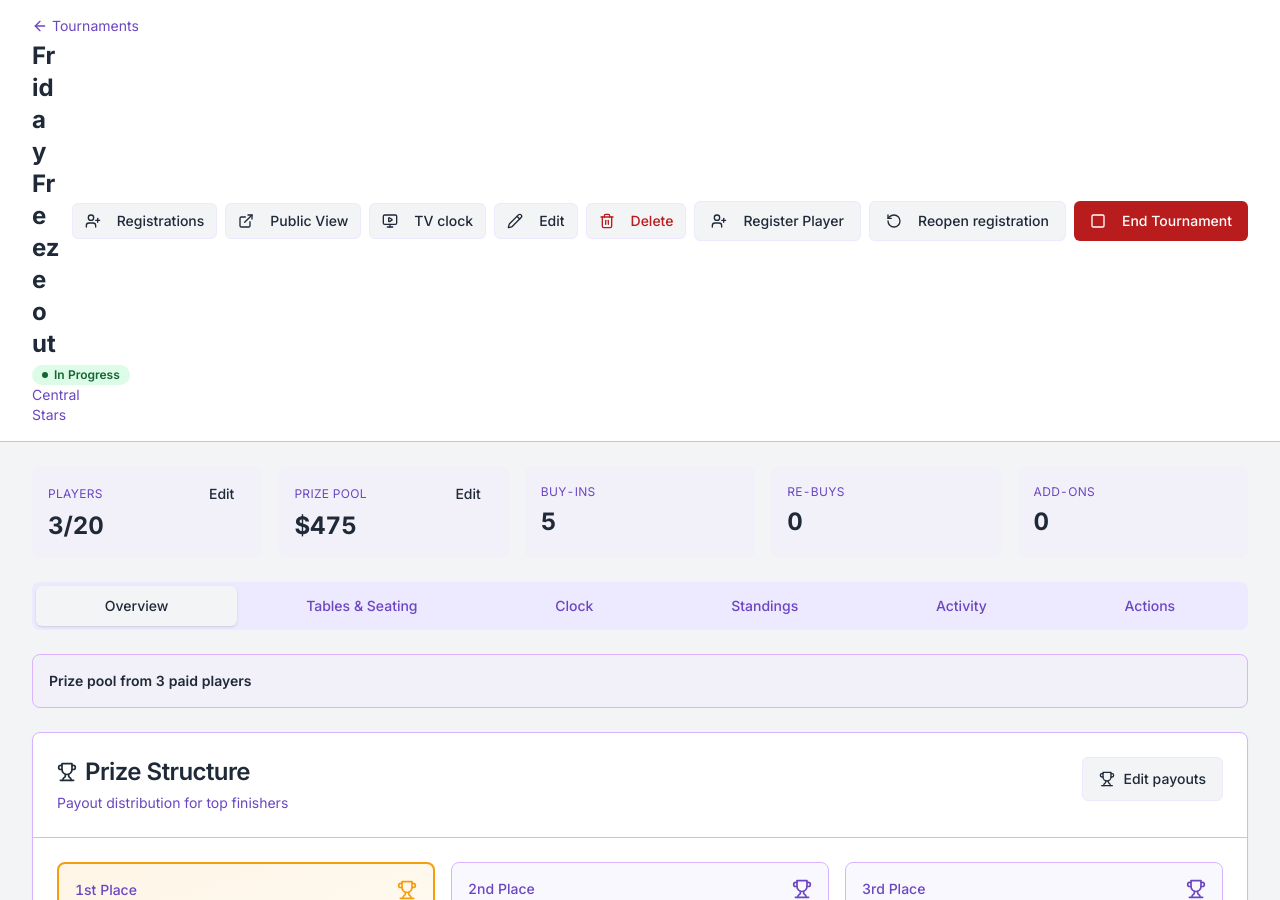
Test case: TournamentDetails › says the waiting requests could not be checked, not that none wait, when their count failed (P3REV3-CQ-05)
This screenshot has width=1280, height=900.
Click the tab "Actions" at point(1150, 606), box [1056,586,1244,626]
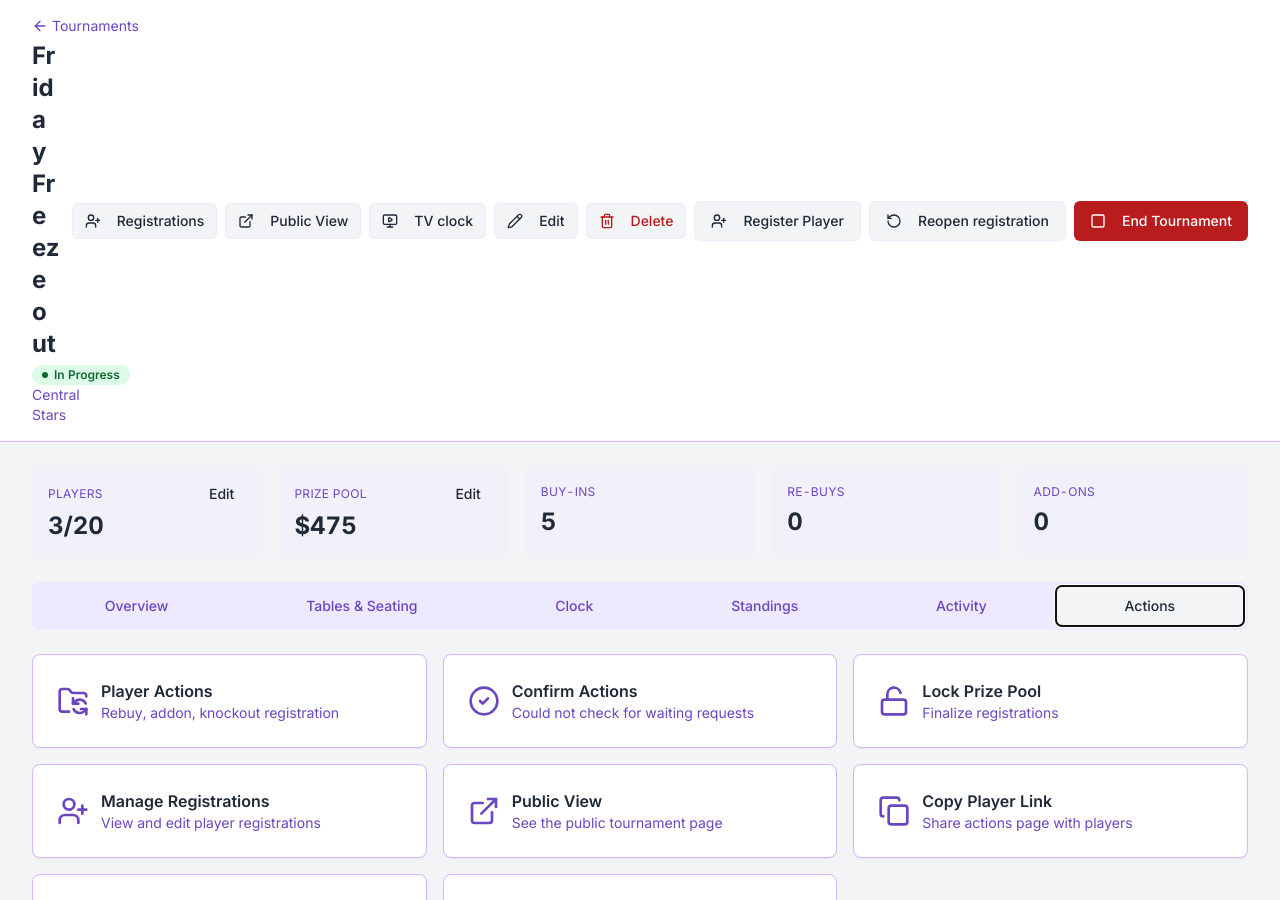
Expected: the text with test id "waiting-requests" reads "Could not check for waiting requests", [512,704,754,721]
